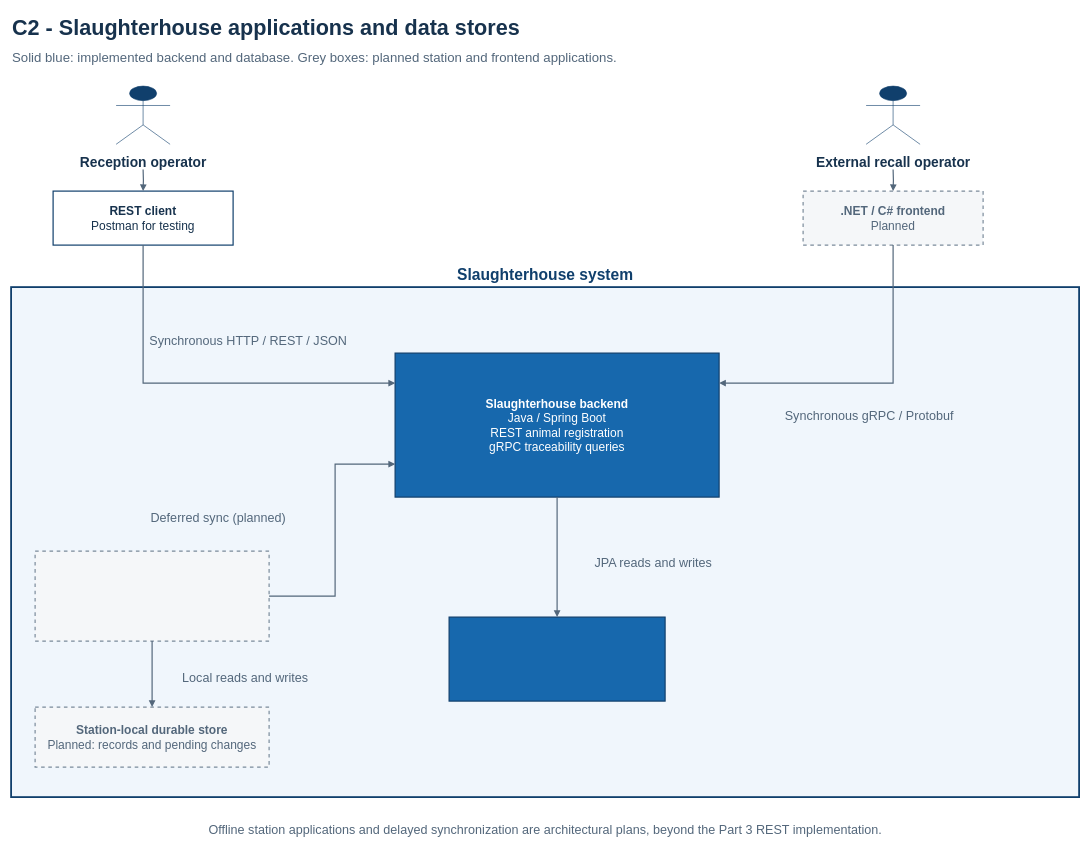
This 1090x849 diagram has some shape labels left out. Each missing label, with the centre of its shape:
"Each station application Planned for stations 1, 2 and 3 Continues work locally" belongs at [151,595].
"PostgreSQL Animal and product data" belongs at [556,658].
